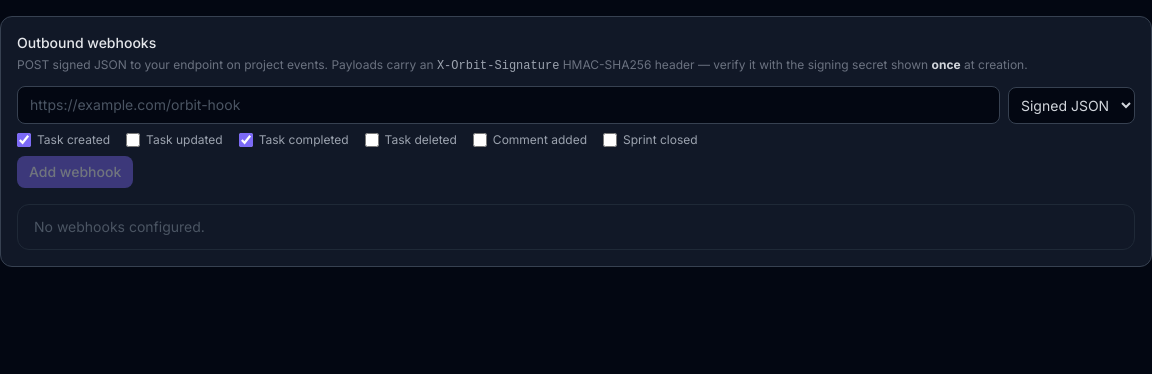
it: REQ-144 — WebhooksSection › [REQ-144] creating a webhook sends url + selected events and shows the secret once
The image size is (1152, 374).
Type "https://example.com/hook" into the field with placeholder "https://example.com/orbit-hook" at [508, 105], box [17, 86, 1000, 124]
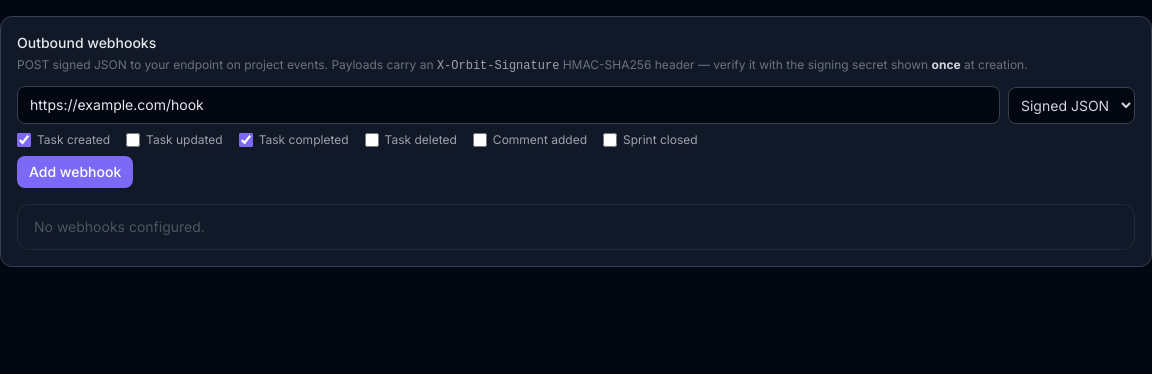
Click the button "Add webhook" at [75, 172], box [17, 156, 133, 188]
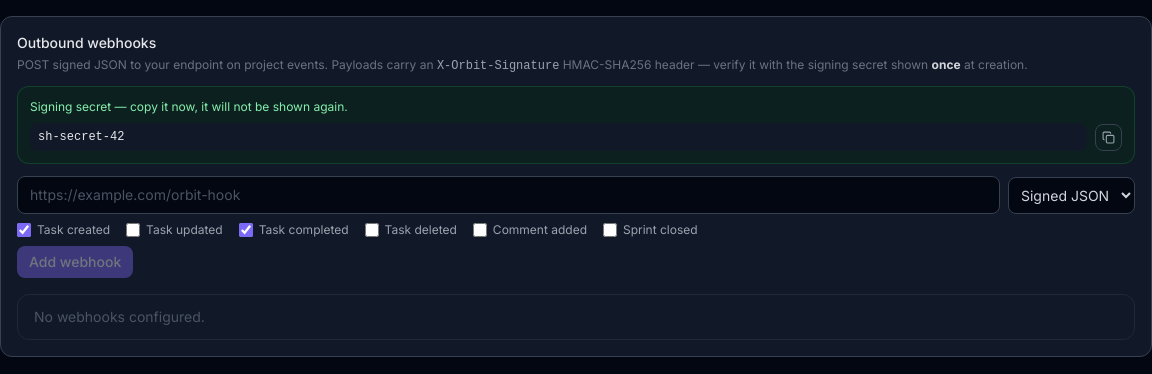
Check: the text "sh-secret-42" is shown, box [30, 123, 1087, 151]
